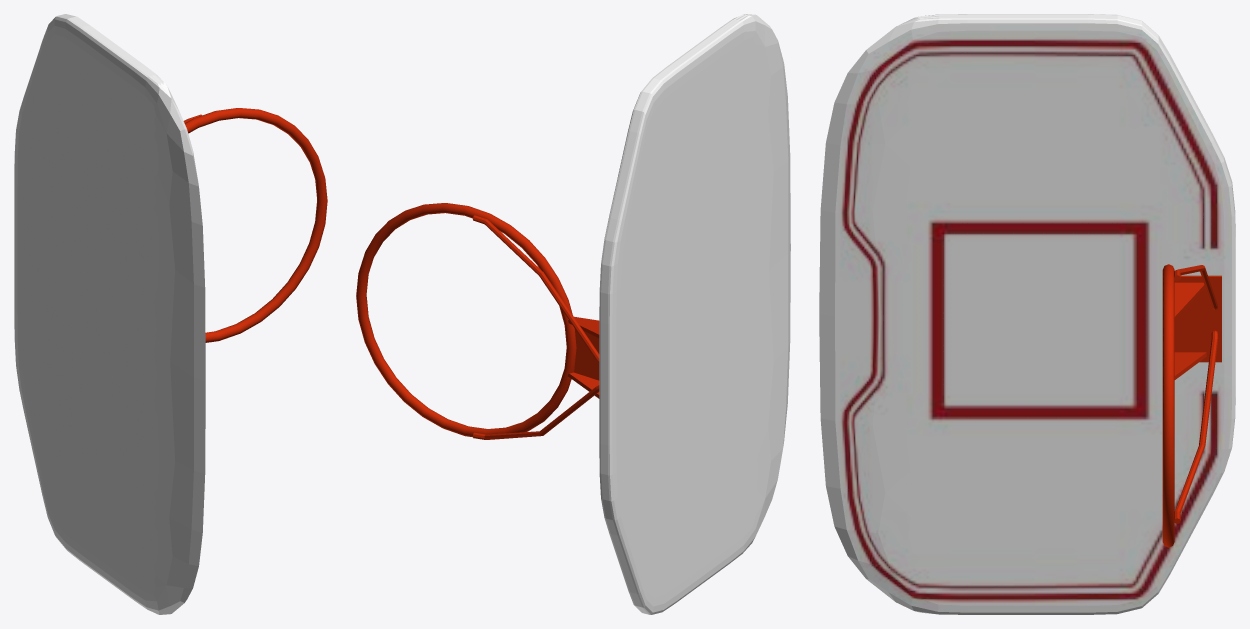
The model's file is basketball_net_and_board.obj.
The picture shows the model from 3 angles, left to right: view 1: azimuth 30°, elevation 25°; view 2: azimuth 150°, elevation 25°; view 3: azimuth 270°, elevation 25°; orthographic projection. The views are drawn at different scales.
Parts seen in each view (by area): view 1: Cube, BezierCircle_Mesh; view 2: Cube, BezierCircle_Mesh, Cube.001; view 3: Cube, Cube.001, BezierCircle_Mesh.
Boxes of the visible parts, x1,y1,x2,y2 form: Cube: (14, 14, 205, 614); BezierCircle_Mesh: (184, 108, 327, 342); Cube: (599, 14, 790, 614); BezierCircle_Mesh: (356, 203, 576, 437); Cube.001: (472, 215, 599, 439); Cube: (819, 14, 1235, 614); Cube.001: (1174, 265, 1221, 523); BezierCircle_Mesh: (1162, 264, 1174, 547).
Size of the model in its own units: 60.86 by 109 by 69.03.
Materials: 2 (1 with a texture image).
